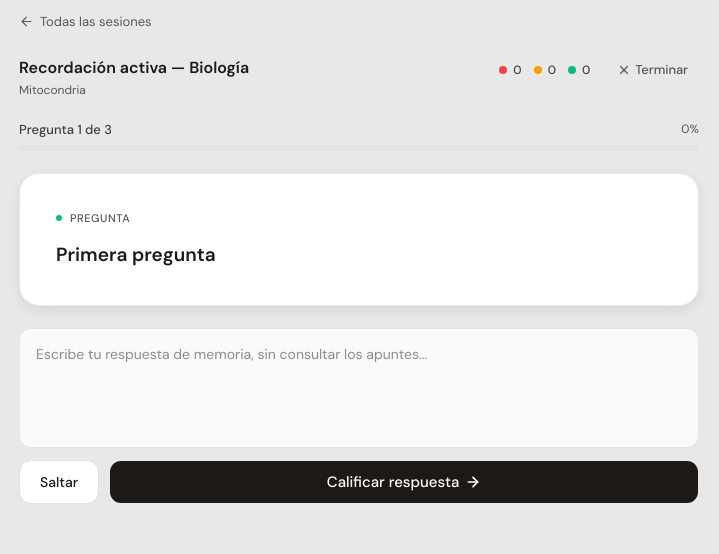
Scenario: ActiveRecallPlayer session flow › shows the student's own answer and the 0-5 scale after 'Calificar respuesta'
Type "Produce ATP" into the text box with test id "answer-textarea". click: coordinates (359, 388)
box: [19,328,699,448]
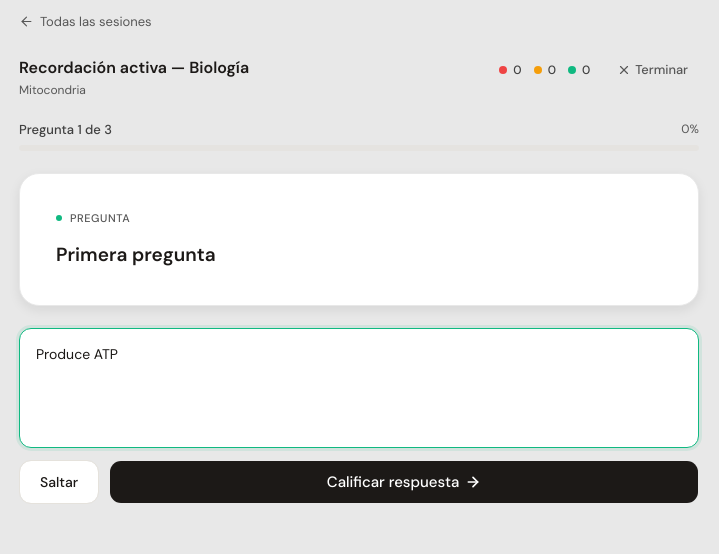
Click the button "Calificar respuesta". click: coordinates (404, 482)
box: [109,460,699,504]
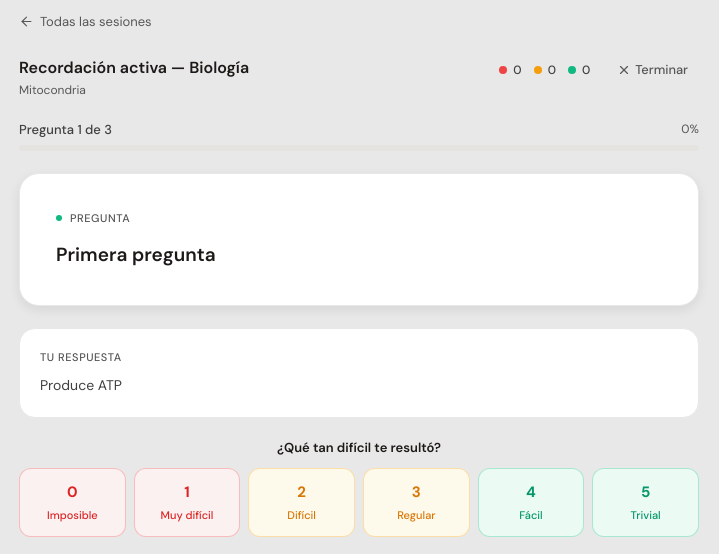
Result: the text "Tu respuesta" is shown at [40,350,122,364]
Result: the text "Produce ATP" is shown at [40,376,122,394]
Result: the text box with test id "answer-textarea" is gone
